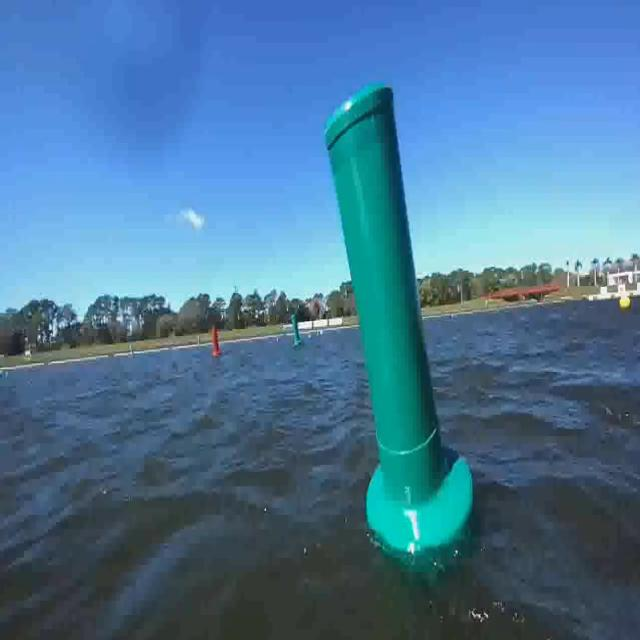green-column-buoy: (325, 85, 473, 567), (291, 316, 304, 349)
red-column-buoy: (212, 329, 222, 359)
yellow-buoy: (620, 296, 631, 312)
